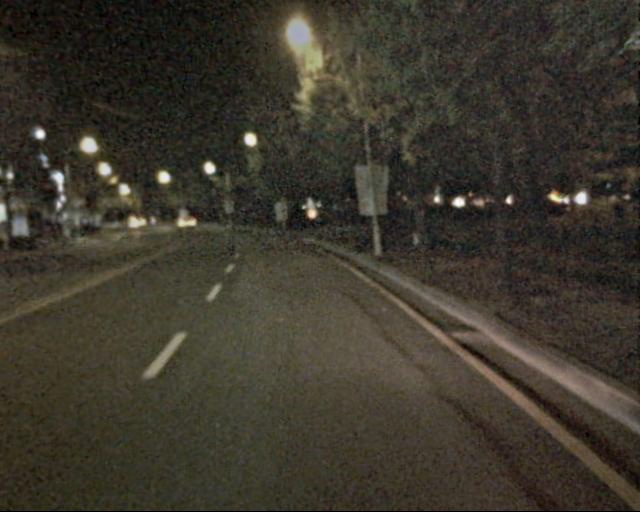person: (405, 206, 433, 261)
